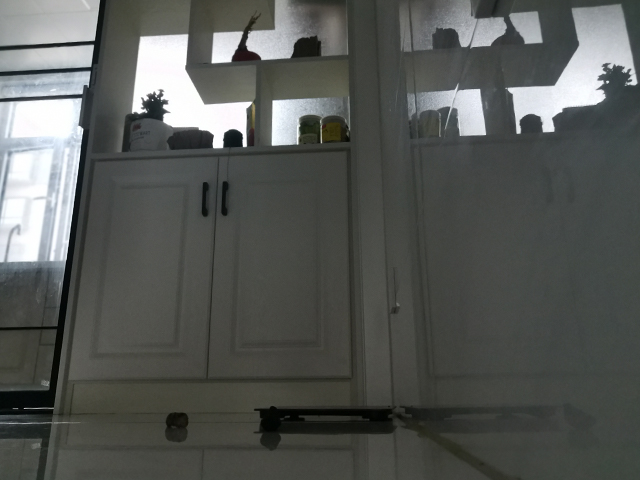cabinet: (51, 144, 376, 420)
feces: (163, 410, 192, 430)
